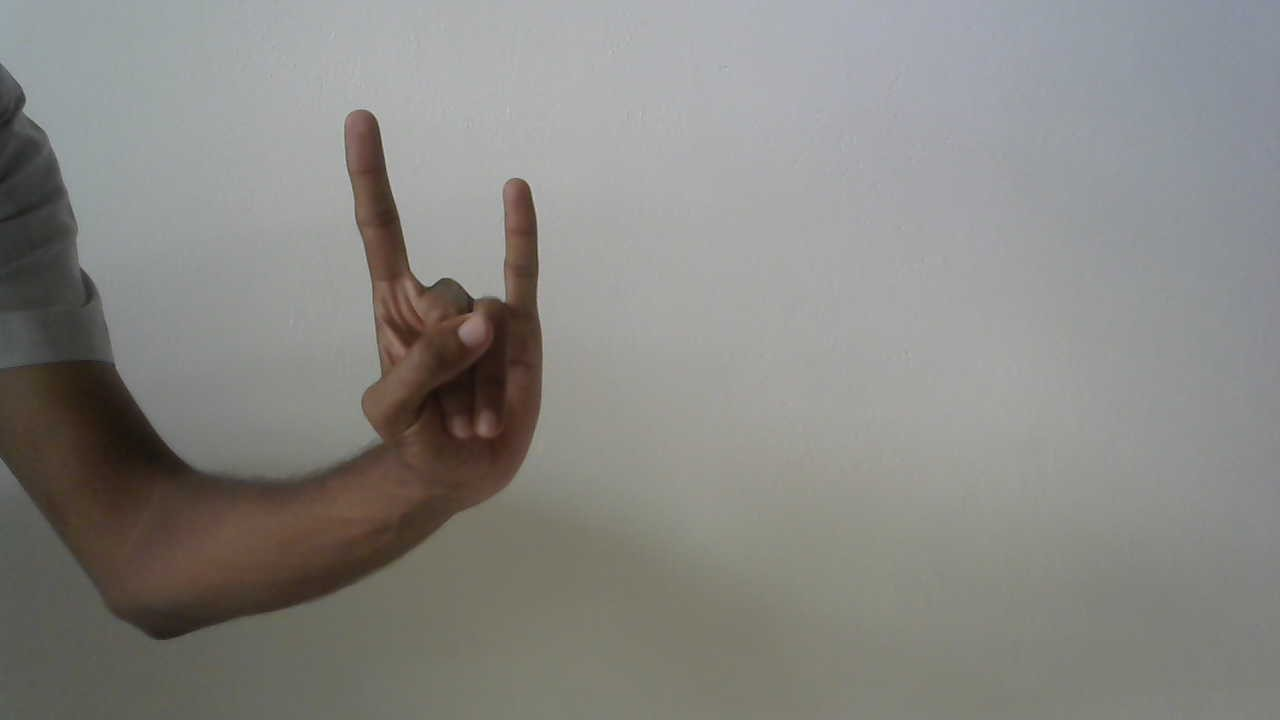iloveyou: (333, 102, 550, 510)
